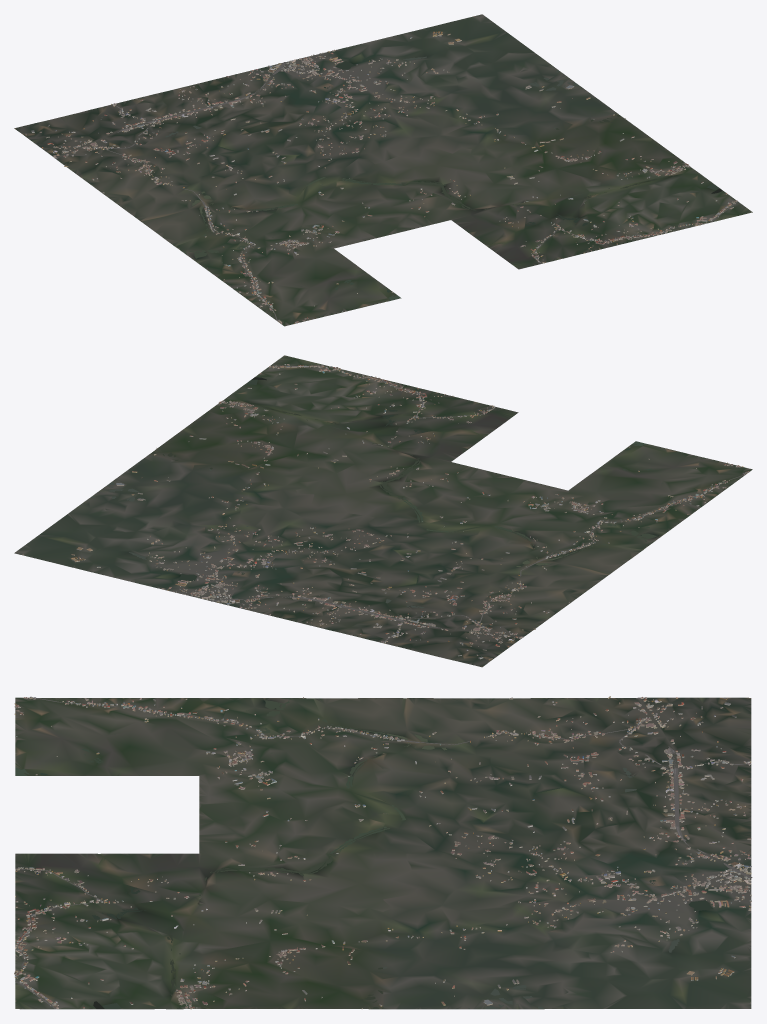
The picture shows the model from 3 angles, top to bottom: view 1: azimuth 30°, elevation 25°; view 2: azimuth 150°, elevation 25°; view 3: azimuth 270°, elevation 25°; orthographic projection. The views are drawn at different scales.
Visible parts, largest first — view 1: ground, buildings, water, roads; view 2: ground, buildings, water, roads; view 3: ground, buildings, water, roads.
Part boxes in pixels (<box>): ground: <box>14,14,752,326</box>; buildings: <box>25,16,737,323</box>; water: <box>137,56,724,300</box>; roads: <box>55,62,738,321</box>; ground: <box>14,355,752,667</box>; buildings: <box>22,364,749,659</box>; water: <box>91,375,702,608</box>; roads: <box>210,365,745,643</box>; ground: <box>15,697,751,1009</box>; buildings: <box>14,696,751,1009</box>; water: <box>15,698,713,1009</box>; roads: <box>15,697,752,1009</box>.
Size of the model in its own units: 5626 by 25.43 by 5629.
